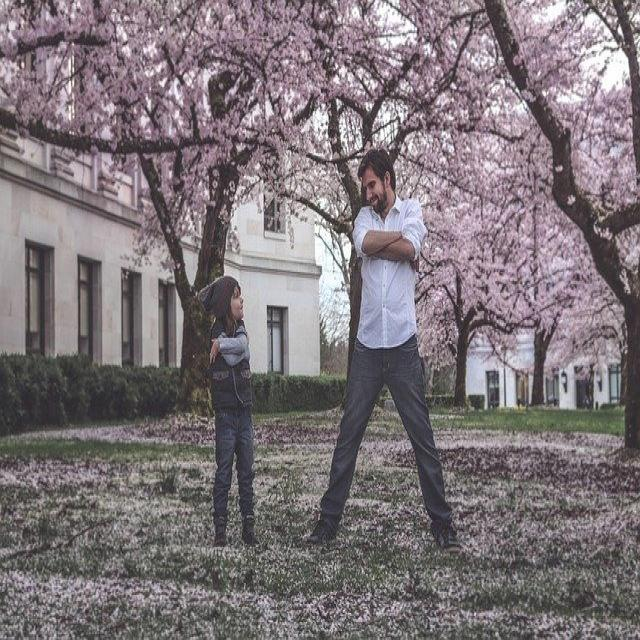adult: (304, 146, 464, 560)
child: (194, 274, 264, 548)
